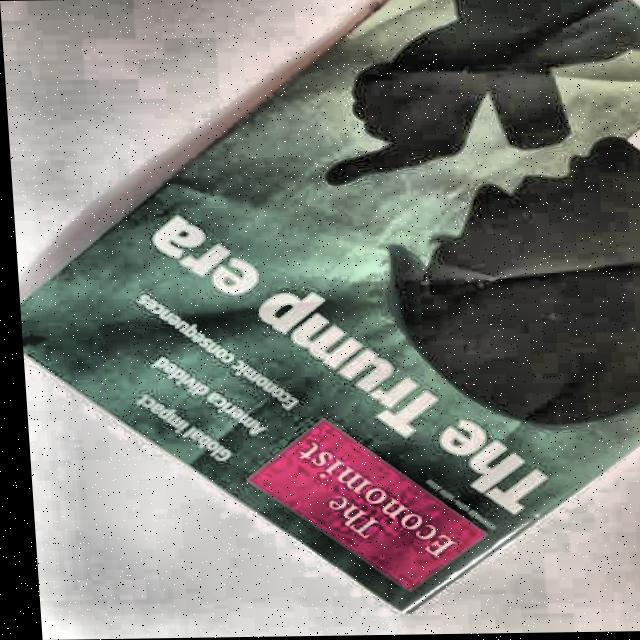paper: (2, 0, 640, 618)
